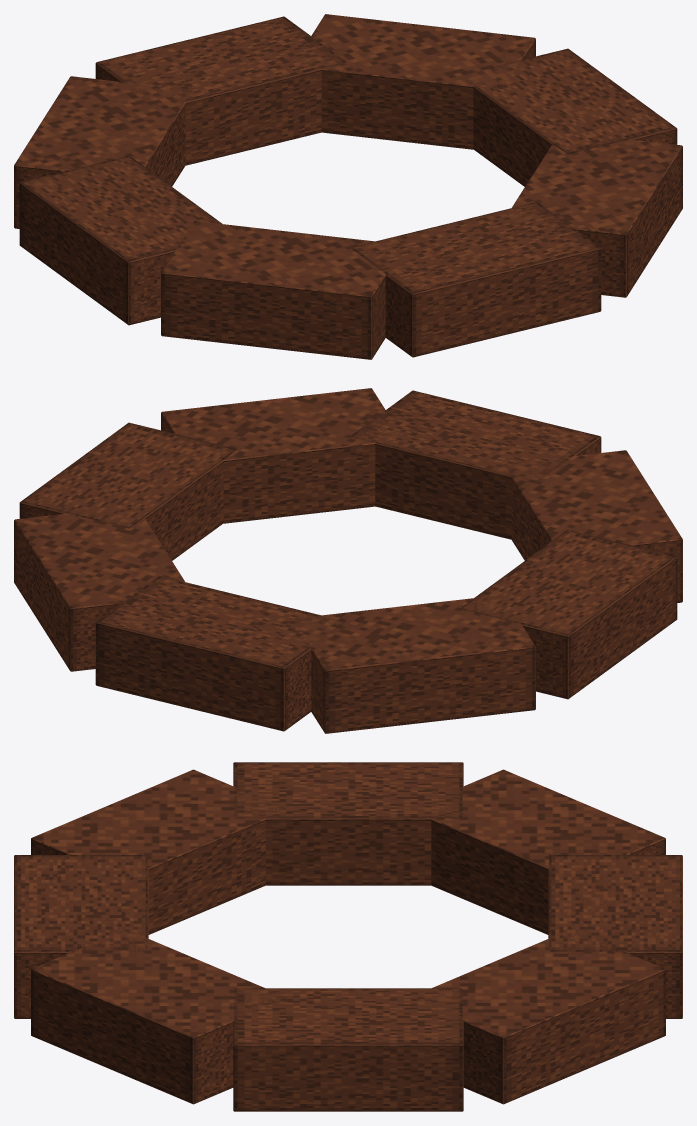
File: env_hole_crystal_backing.fbx
3 views of the same model, one above another, from view 1: azimuth 30°, elevation 25°; view 2: azimuth 150°, elevation 25°; view 3: azimuth 270°, elevation 25° (orthographic). The views are drawn at different scales.
Parts seen in each view (by area): view 1: env_hole_crystal_backing; view 2: env_hole_crystal_backing; view 3: env_hole_crystal_backing.
Part boxes in pixels (x1,y1,x2,y2): env_hole_crystal_backing: (14, 14, 682, 359); env_hole_crystal_backing: (14, 388, 682, 733); env_hole_crystal_backing: (14, 762, 682, 1111).
Size of the model in its own units: 144 by 16 by 144.
1 material, 1 textured.
